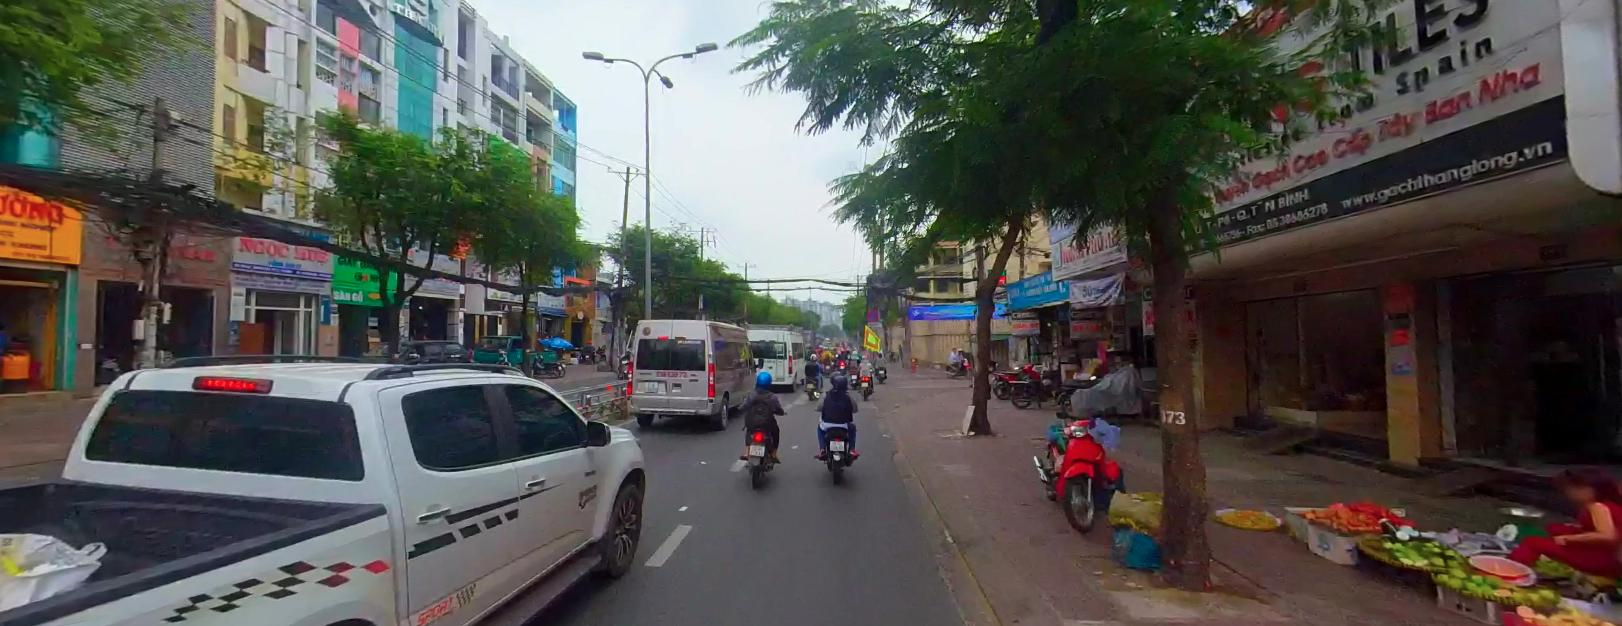Cam dung va do: (867, 309, 879, 319)
